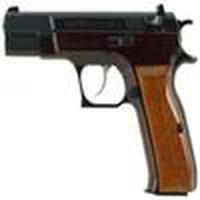gun: (3, 6, 200, 197)
